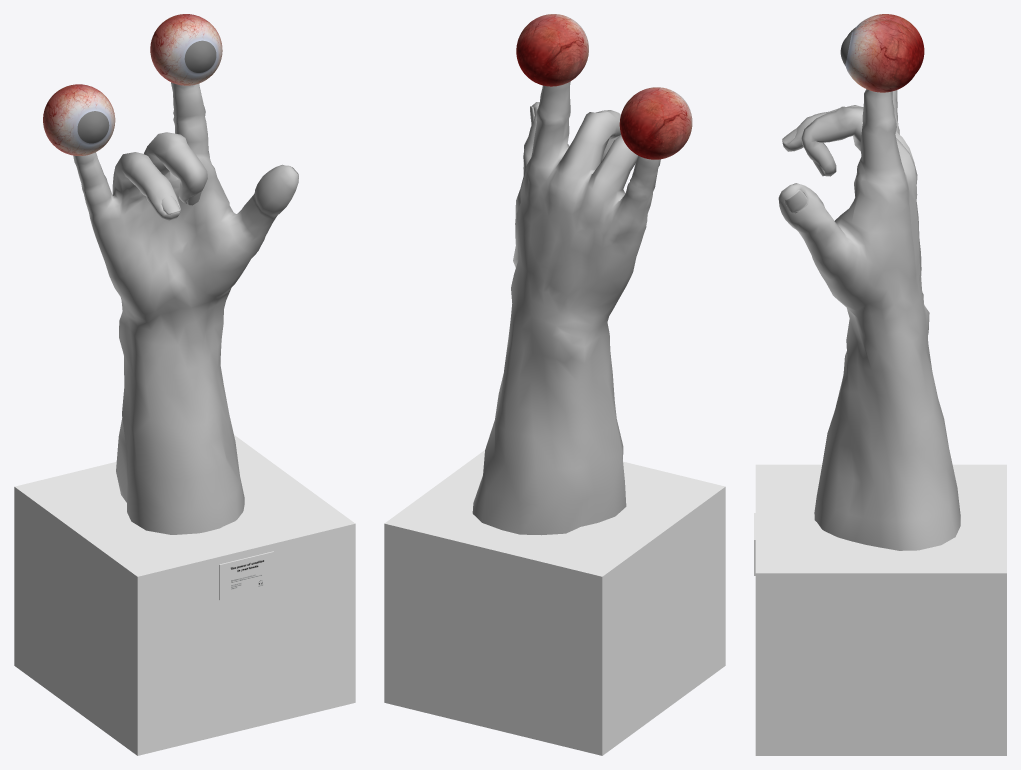
The model's file is Hand 3.fbx.
The picture shows the model from 3 angles, left to right: view 1: azimuth 30°, elevation 25°; view 2: azimuth 150°, elevation 25°; view 3: azimuth 270°, elevation 25°; orthographic projection. The views are drawn at different scales.
Visible parts, largest first — view 1: hand 3, eye, eye 2; view 2: hand 3, eye 2, eye; view 3: hand 3, eye, eye 2.
Boxes of the visible parts, x1,y1,x2,y2 form: hand 3: (14, 82, 355, 755); eye: (150, 14, 222, 85); eye 2: (43, 84, 115, 155); hand 3: (384, 81, 725, 755); eye 2: (619, 87, 692, 159); eye: (516, 14, 588, 86); hand 3: (754, 89, 1006, 755); eye: (840, 19, 920, 92); eye 2: (847, 14, 924, 73).
Size of the model in its own units: 111 by 289 by 97.53.
